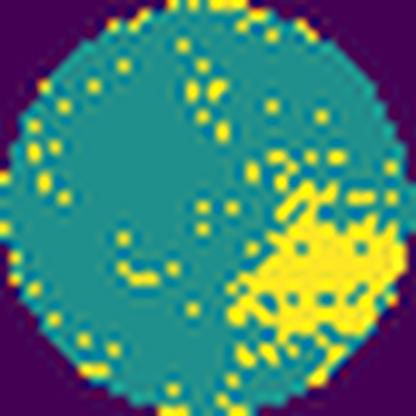Loc: (228, 185, 405, 342)
